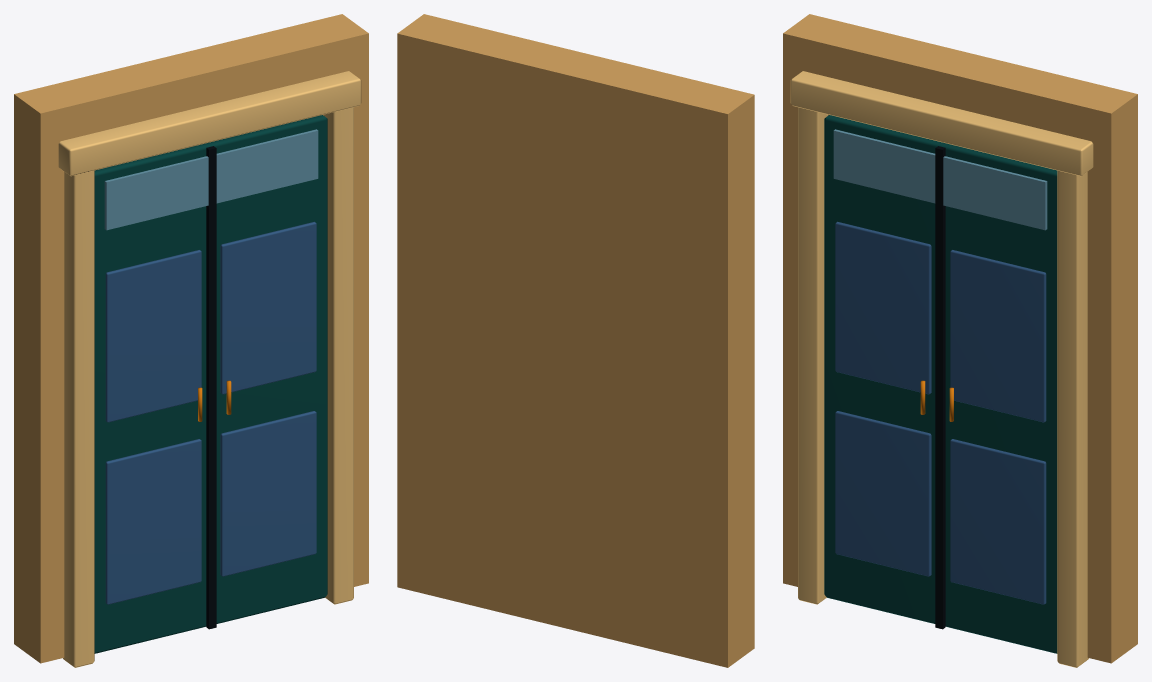
File: porte-immeuble-2m.glb
3 views of the same model, side by side, from view 1: azimuth 30°, elevation 25°; view 2: azimuth 150°, elevation 25°; view 3: azimuth 330°, elevation 25° (orthographic).
Parts seen in each view (by area): view 1: porte-immeuble-2m; view 2: porte-immeuble-2m; view 3: porte-immeuble-2m.
Part boxes in pixels (box(x1,y1,x2,y2)): porte-immeuble-2m: box(14, 14, 368, 667); porte-immeuble-2m: box(397, 14, 754, 667); porte-immeuble-2m: box(783, 14, 1137, 667).
Size of the model in its own units: 2 by 3.23 by 0.4.
1 material, 1 textured.
